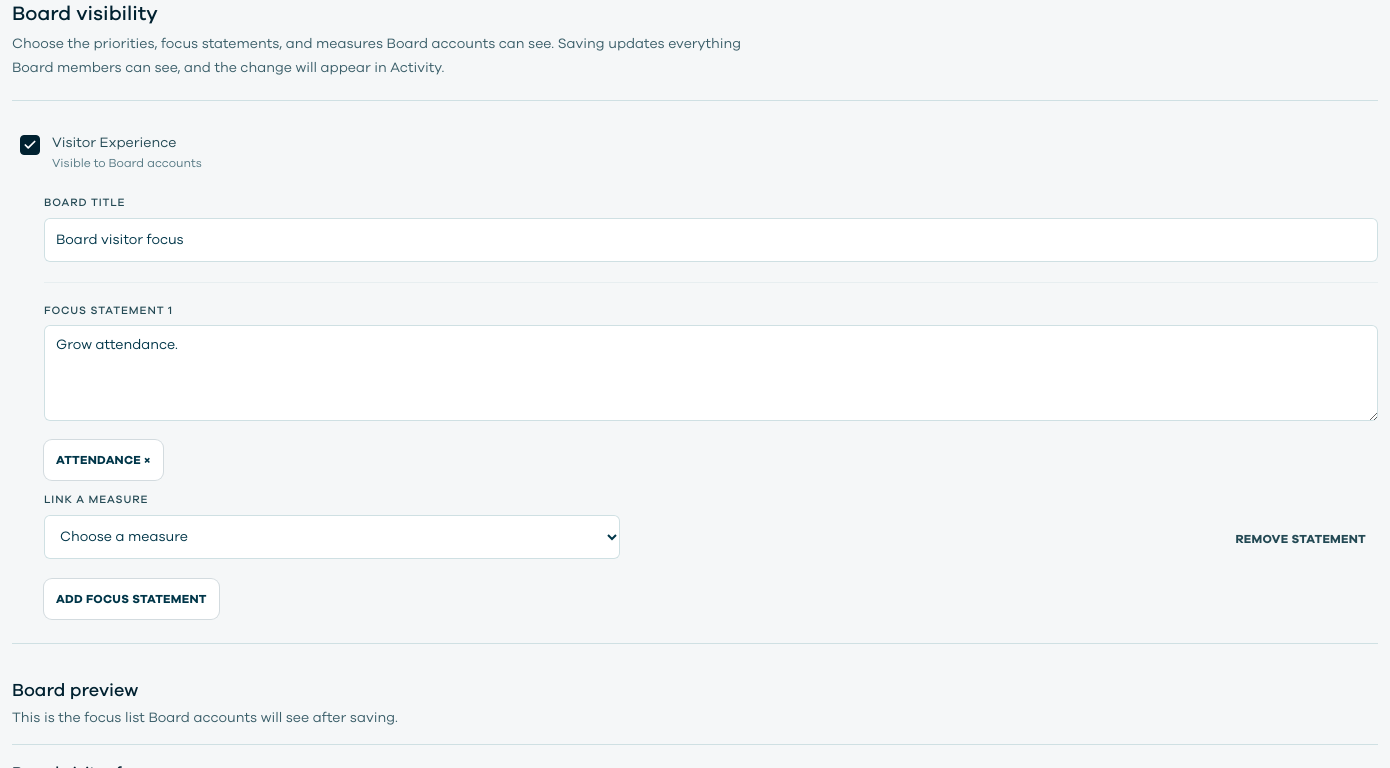
BoardReportingEditorClient › shows the server conflict instead of replacing a newer Board scope
This screenshot has width=1390, height=768.
Replace the text in the field labelled "Board title" with "Conflicting edit" at coordinates (711, 240), box [44,218,1378,262]
(page scrolled)
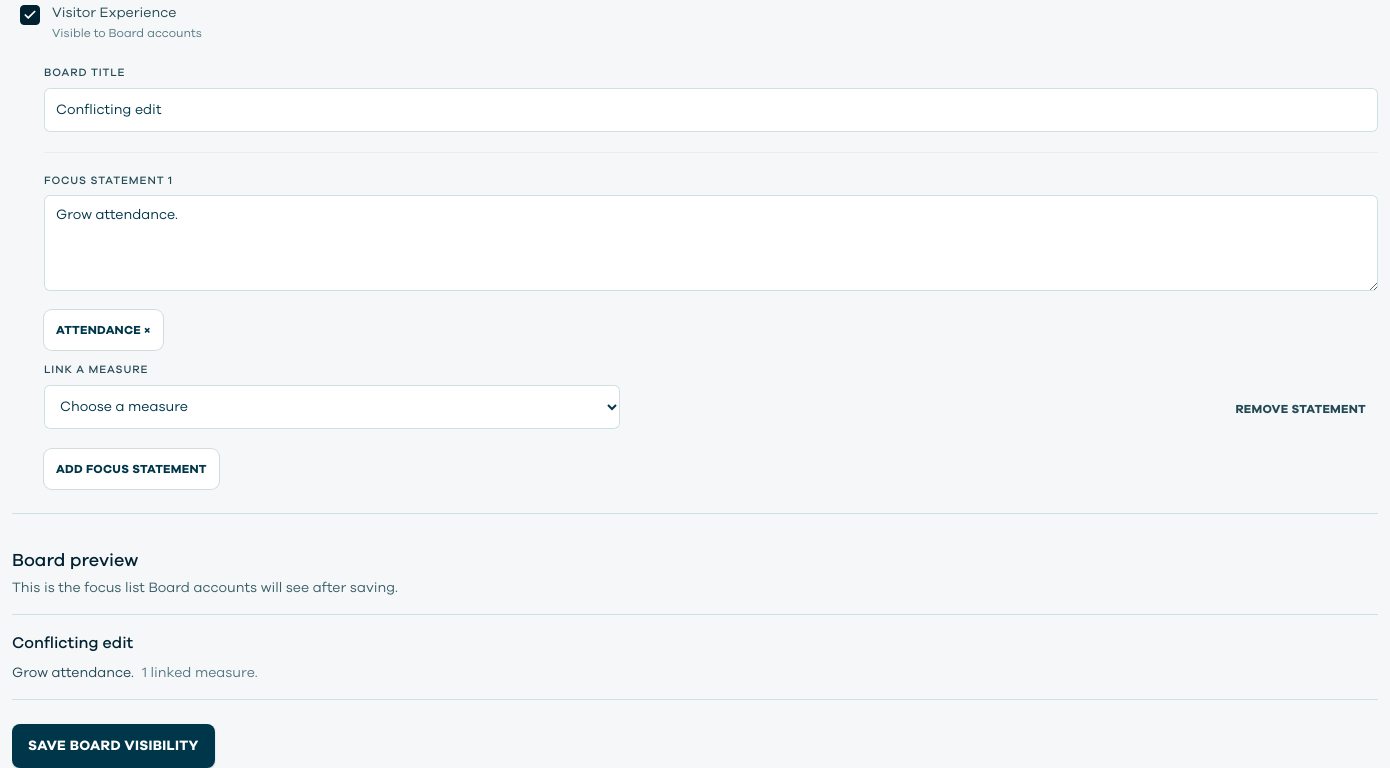
Click the button "Save Board visibility" at coordinates (113, 746), box [12,724,215,767]
(page scrolled)
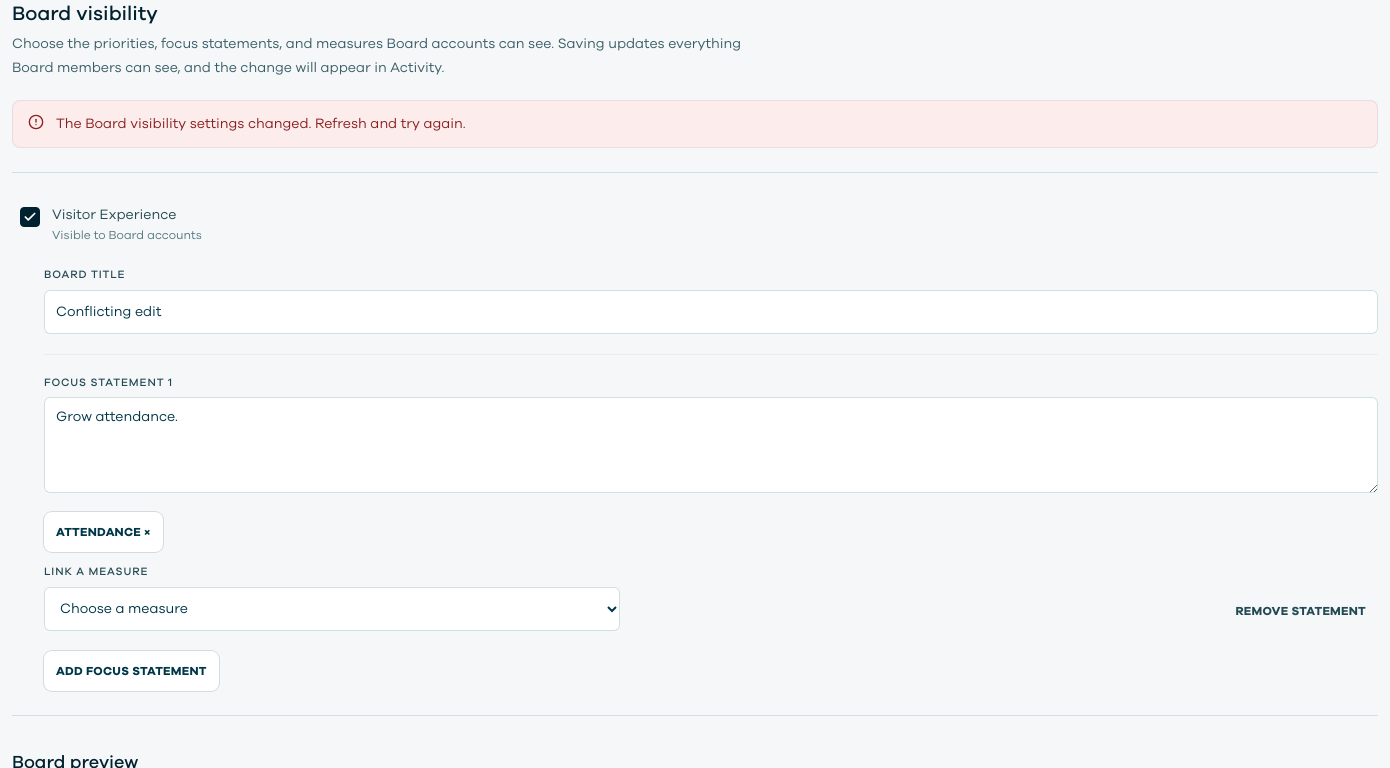
Expected: the text "The Board visibility settings changed. Refresh and try again." is shown, [56,114,466,133]
